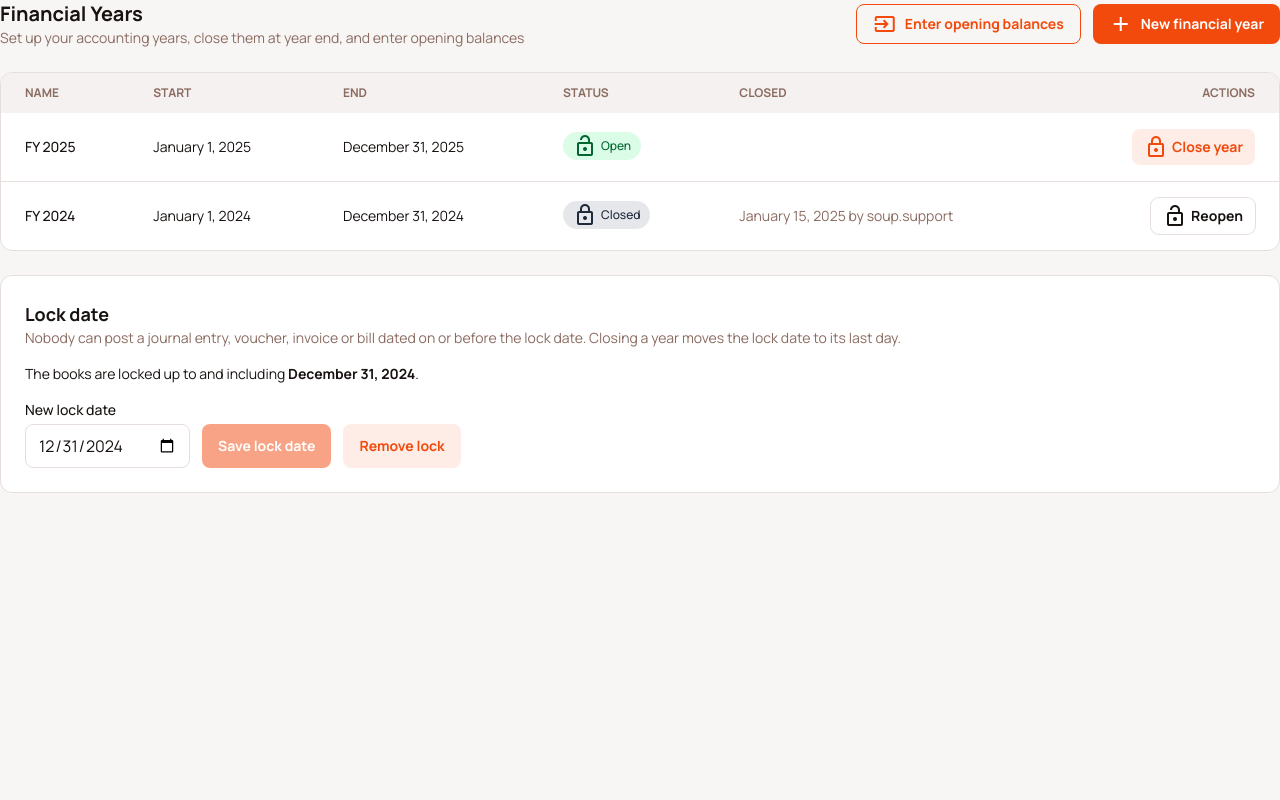
FinancialYearsPage › blocks closing on pending entries
The width and height of the screenshot is (1280, 800).
Click the button with test id "close-year-button-fy25": (1193, 147) top-left (1132, 129), bottom-right (1255, 165)
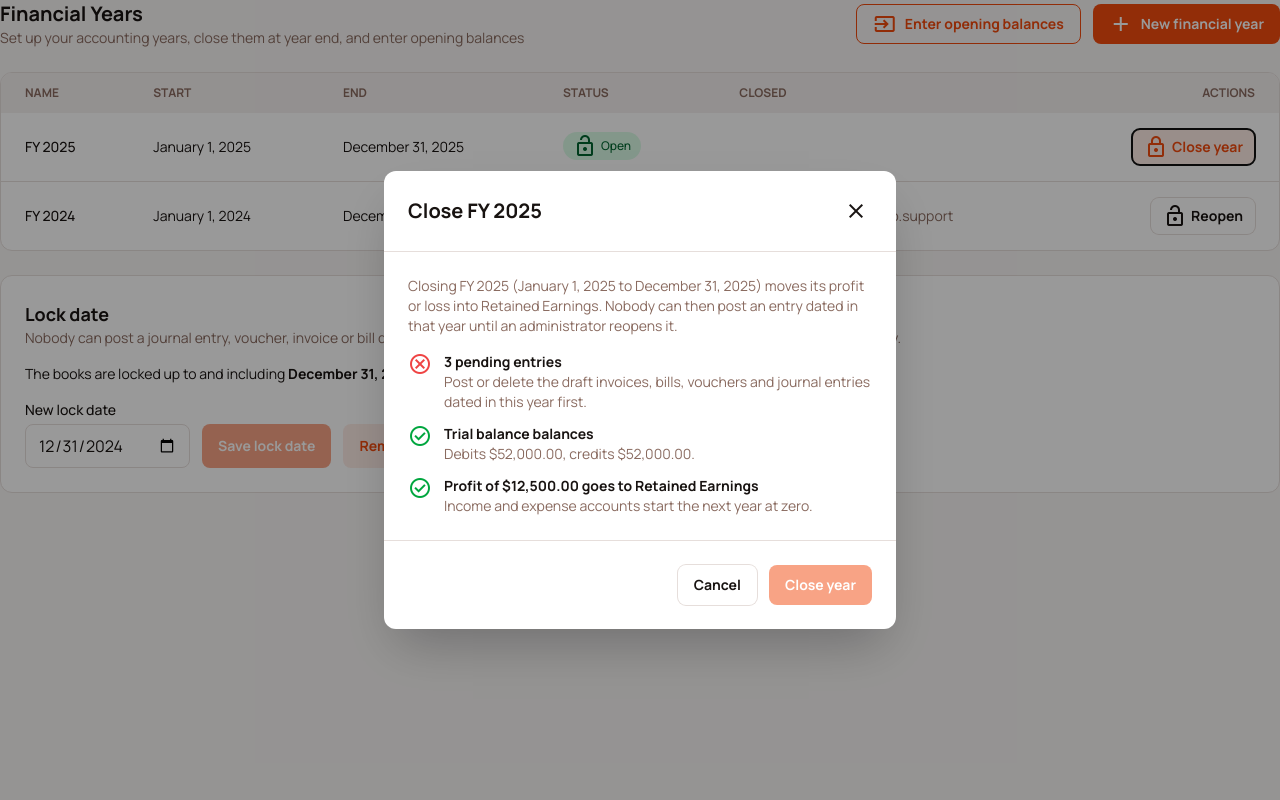
Expected: the list item with test id "check-pending-entries" shows "3 pending entries", top-left (444, 352), bottom-right (562, 371)
Expected: the button with test id "close-year-confirm" is disabled, top-left (769, 565), bottom-right (872, 605)
